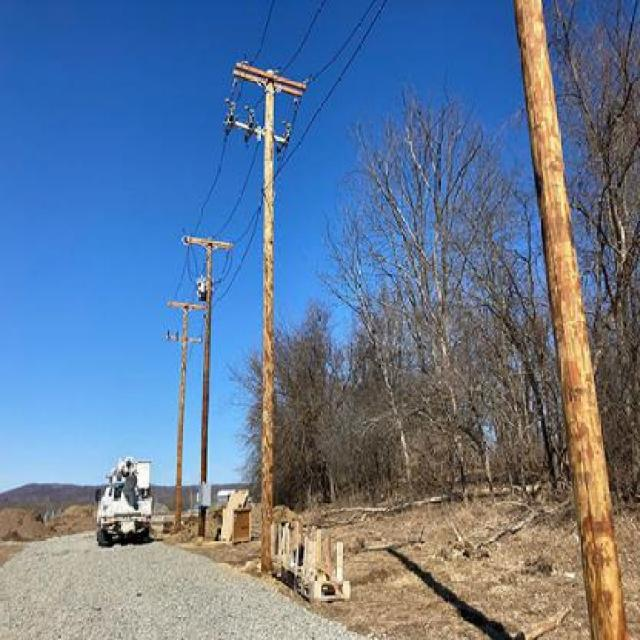pole: (226, 49, 316, 568), (181, 223, 234, 539)
